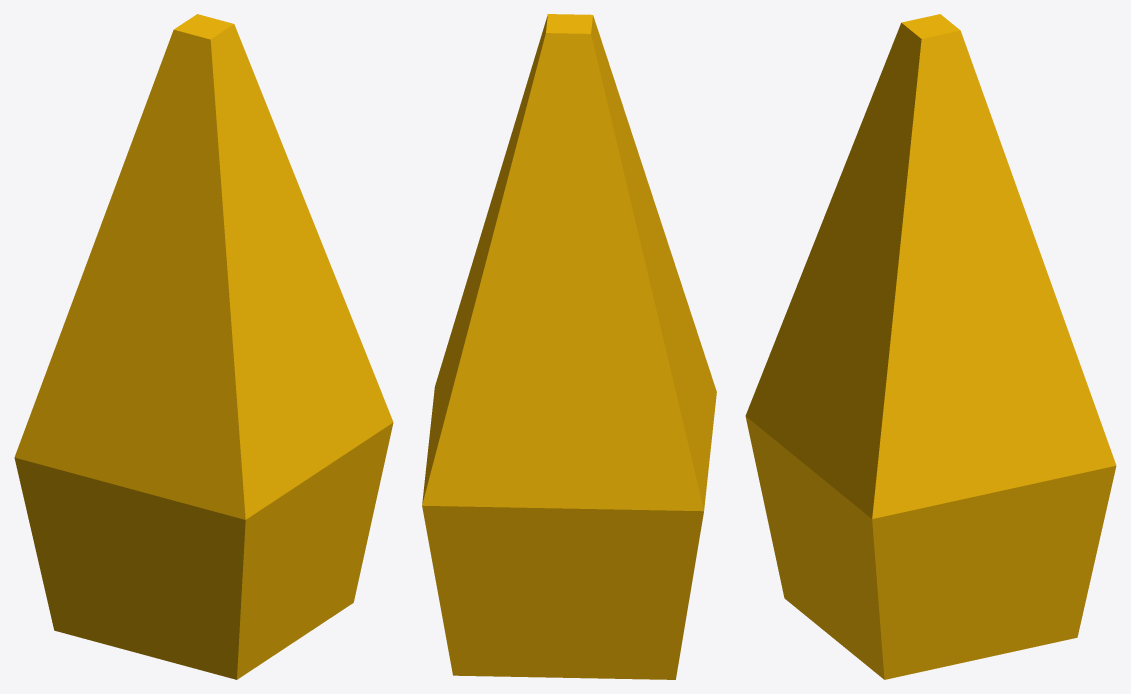
Rendered from Prop_Fruit_Papaya_01.fbx.
3 renders of one model, left to right at view 1: azimuth 30°, elevation 25°; view 2: azimuth 150°, elevation 25°; view 3: azimuth 270°, elevation 25°, orthographic. The views are drawn at different scales.
Visible parts, largest first — view 1: Prop_Fruit_Papaya_01; view 2: Prop_Fruit_Papaya_01; view 3: Prop_Fruit_Papaya_01.
Part boxes in pixels (bbox=[...]): Prop_Fruit_Papaya_01: bbox=[14, 14, 393, 679]; Prop_Fruit_Papaya_01: bbox=[422, 14, 716, 679]; Prop_Fruit_Papaya_01: bbox=[745, 14, 1116, 679].
Size of the model in its own units: 5.88 by 10.35 by 5.88.
